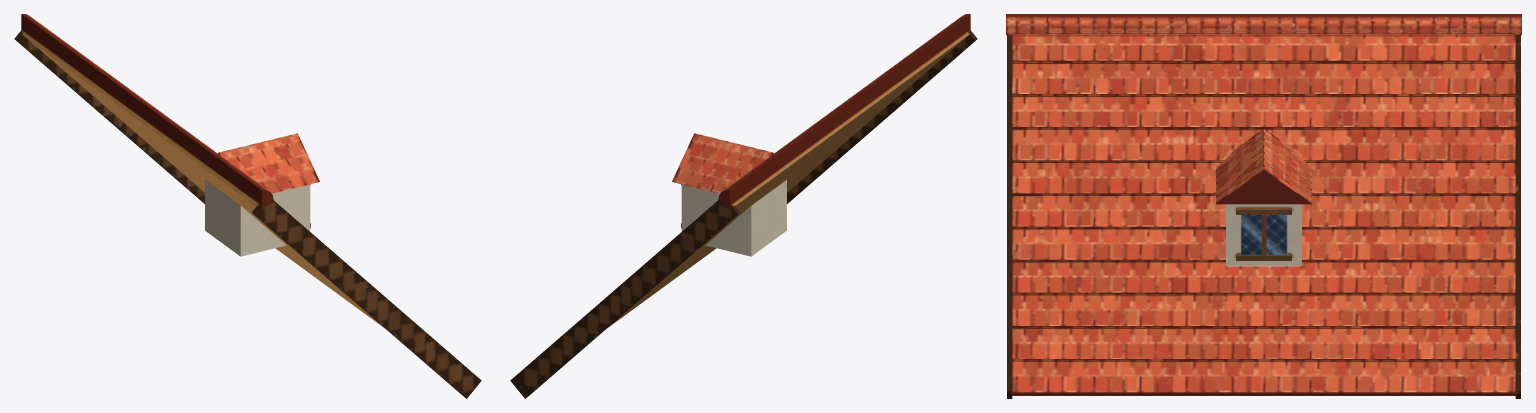
Rendered from Kit_House_Roof.fbx.
3 renders of one model, left to right at view 1: azimuth 30°, elevation 25°; view 2: azimuth 150°, elevation 25°; view 3: azimuth 270°, elevation 25°, orthographic. The views are drawn at different scales.
Parts seen in each view (by area): view 1: Kit_House_Roof_LOD0; view 2: Kit_House_Roof_LOD0; view 3: Kit_House_Roof_LOD0.
Part boxes in pixels (bbox=[...]): Kit_House_Roof_LOD0: bbox=[14, 14, 481, 398]; Kit_House_Roof_LOD0: bbox=[510, 14, 977, 398]; Kit_House_Roof_LOD0: bbox=[1006, 14, 1521, 398].
Size of what is drawn, in the model's own units: 3.1 by 3.37 by 5.68.
1 material, 1 textured.
